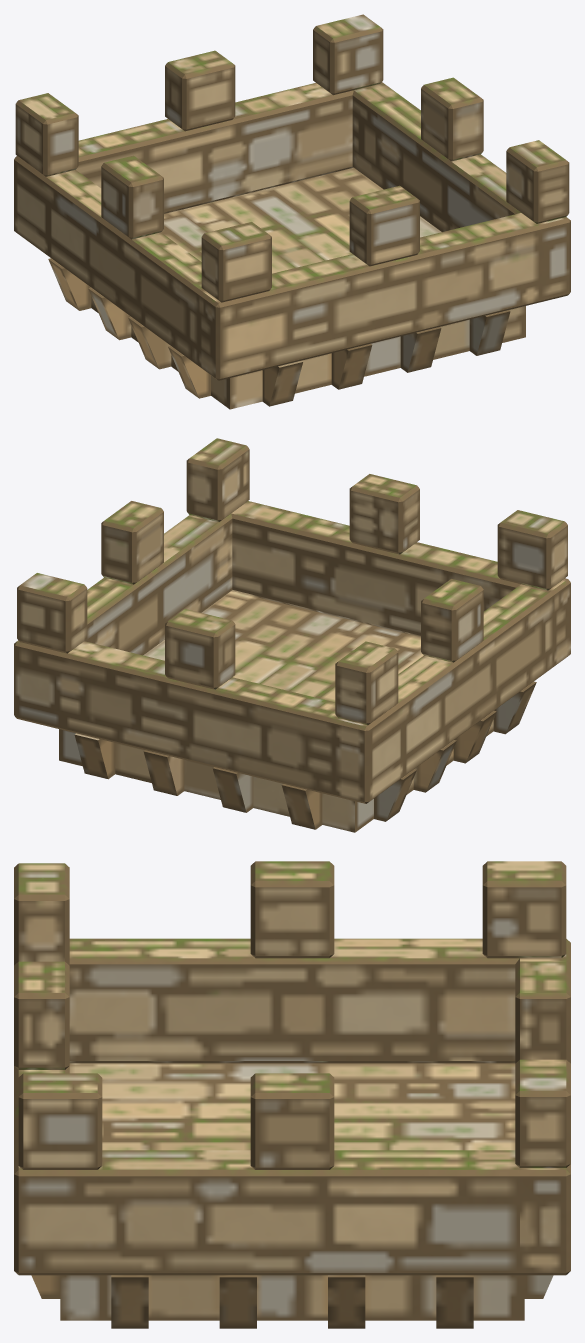
File: Kit_Gate_TowerCrown.fbx
3 renders of one model, top to bottom at view 1: azimuth 30°, elevation 25°; view 2: azimuth 150°, elevation 25°; view 3: azimuth 270°, elevation 25°, orthographic. The views are drawn at different scales.
Parts seen in each view (by area): view 1: Kit_Gate_TowerCrown_LOD0; view 2: Kit_Gate_TowerCrown_LOD0; view 3: Kit_Gate_TowerCrown_LOD0.
Boxes of the visible parts, x1,y1,x2,y2 form: Kit_Gate_TowerCrown_LOD0: (14,14,570,409); Kit_Gate_TowerCrown_LOD0: (14,438,570,832); Kit_Gate_TowerCrown_LOD0: (14,861,570,1328).
Size of what is drawn, in the model's own units: 3.6 by 1.75 by 3.6.
Materials: 1 (1 with a texture image).
